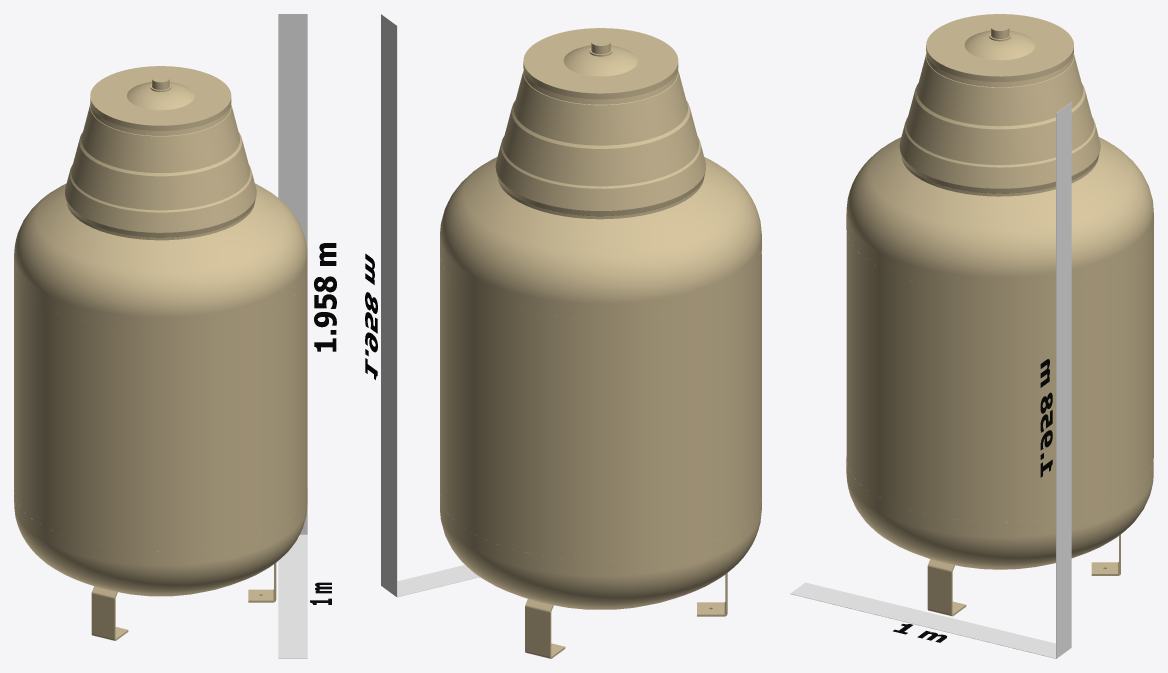
File: android_tank_1000L_VUG.glb
3 renders of one model, left to right at view 1: azimuth 30°, elevation 25°; view 2: azimuth 150°, elevation 25°; view 3: azimuth 270°, elevation 25°, orthographic. The views are drawn at different scales.
Parts seen in each view (by area): view 1: Solid1 (×8); view 2: Solid1 (×7); view 3: Solid1 (×7).
Part boxes in pixels (left/top/right/bottom): Solid1 (×8): left=14, top=14, right=336, bottom=658; Solid1 (×7): left=365, top=14, right=761, bottom=658; Solid1 (×7): left=790, top=14, right=1153, bottom=658.
Size of the model in its own units: 1.27 by 1.96 by 1.18.
